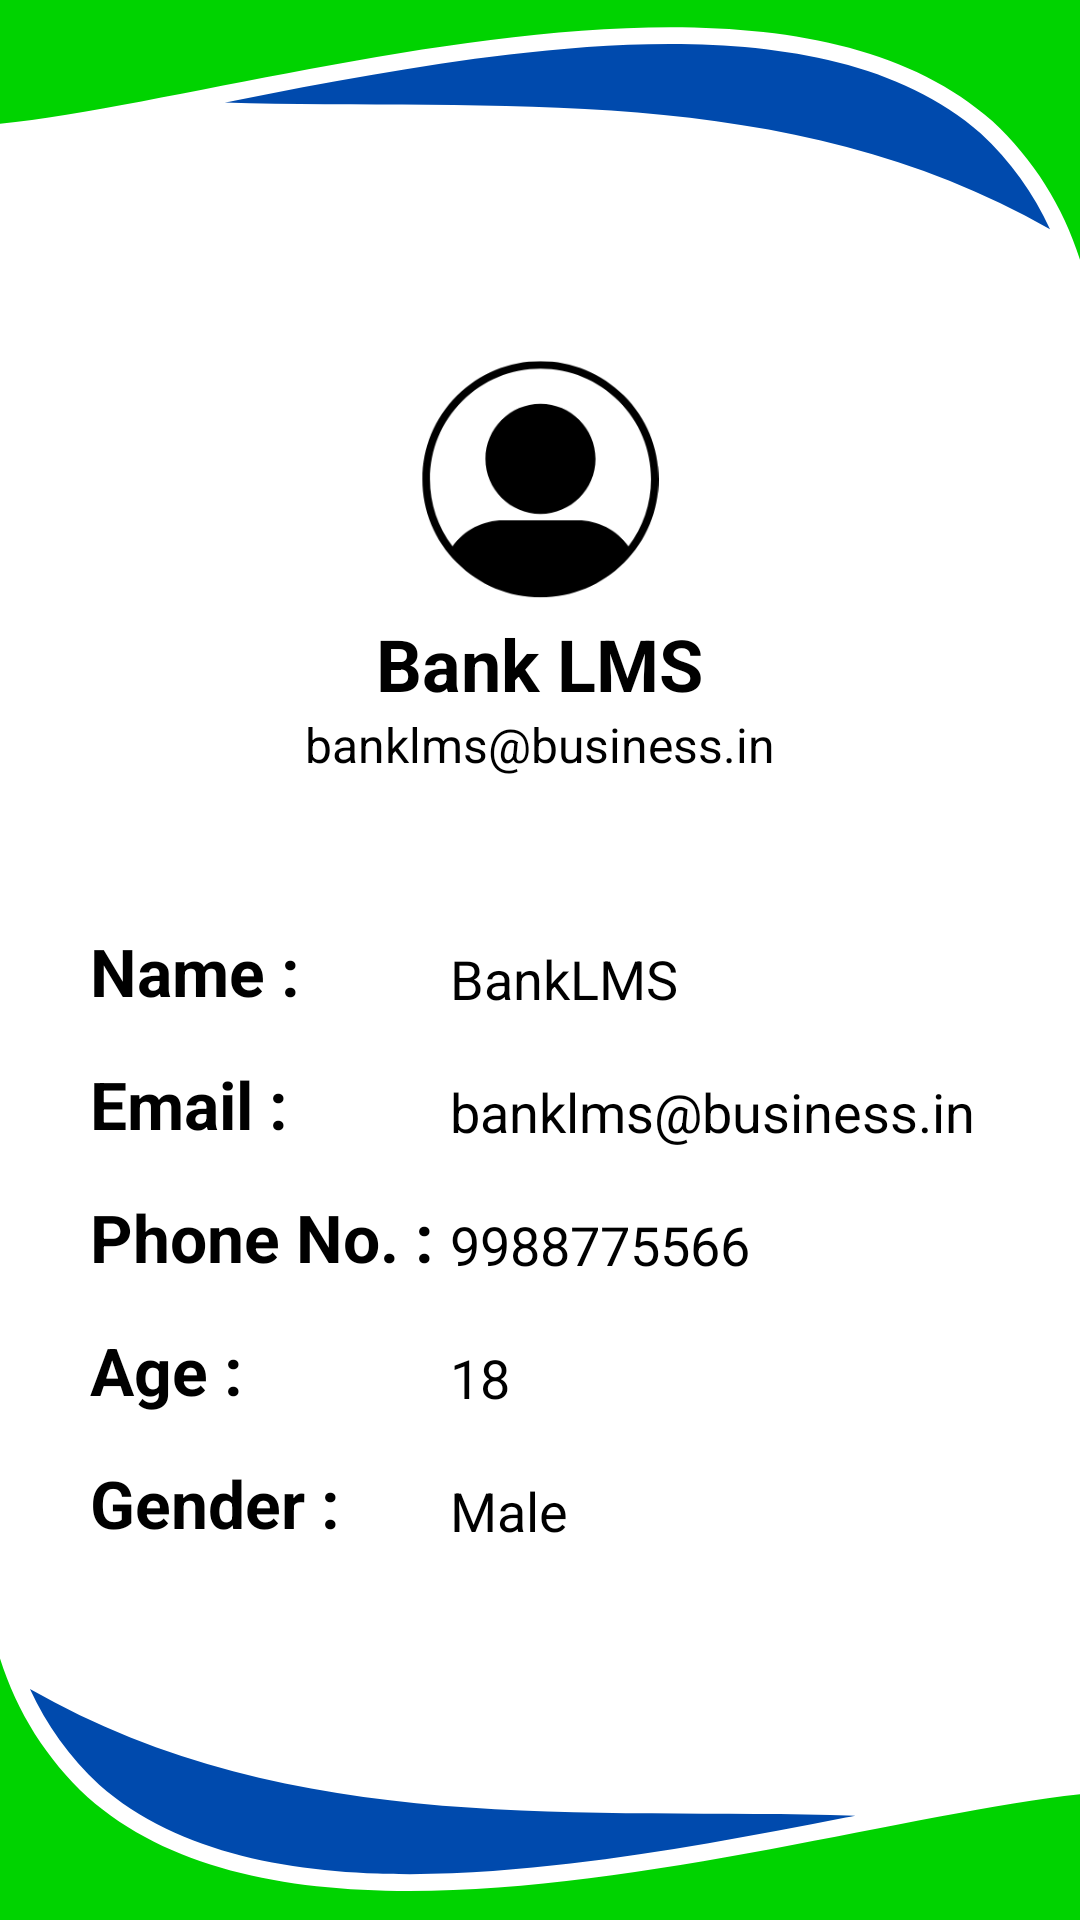

Icons on this 1080 x 1920 Android screen, each with its box as (x1, y1, x2, y2):
profileicon: (422, 361, 659, 598)
